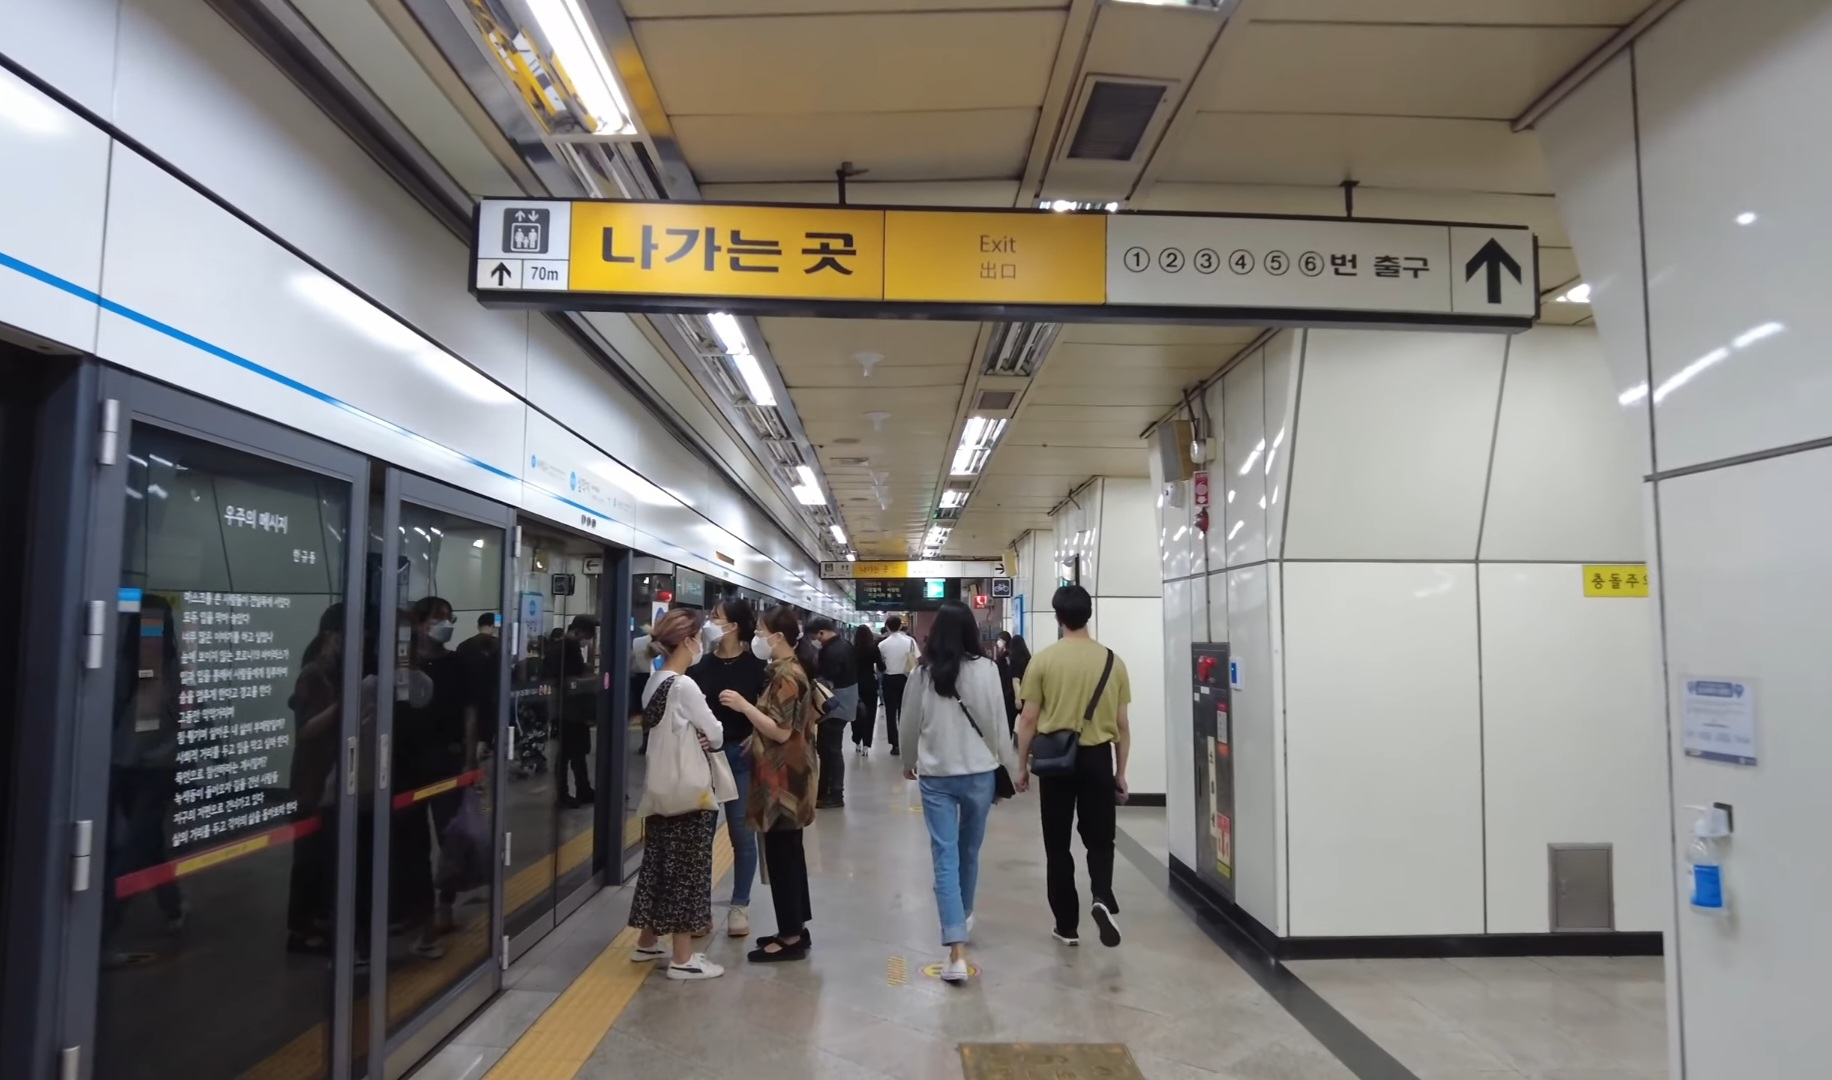signBoard: (405, 105, 1622, 363)
